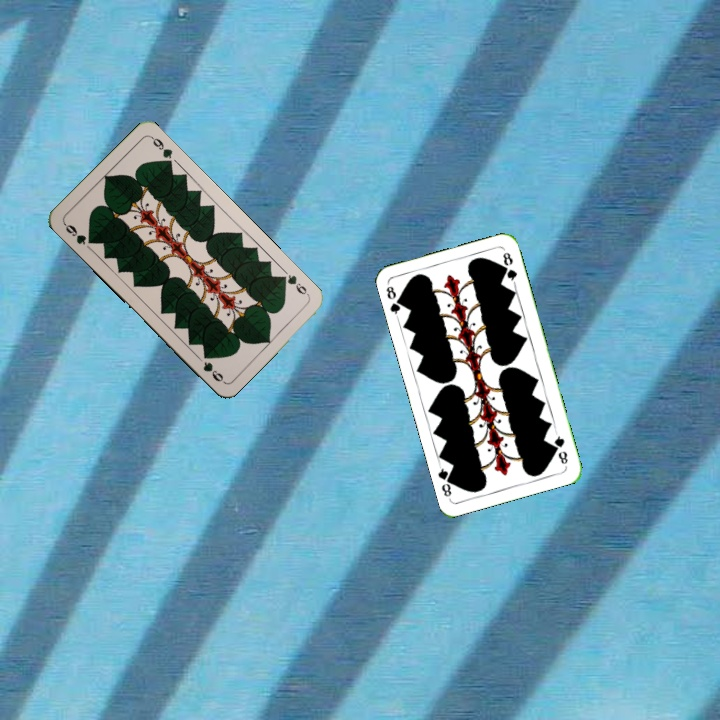G8: (382, 281, 406, 320), (550, 429, 570, 467)
G9: (60, 219, 97, 247), (275, 271, 312, 299)
